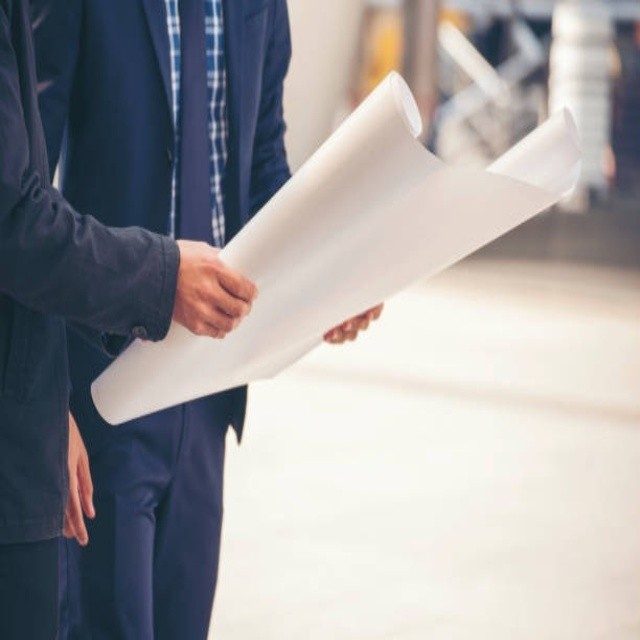Sin_guantes: (171, 241, 260, 340), (65, 412, 96, 545), (323, 304, 384, 345)
